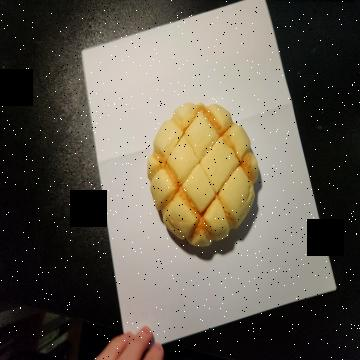melon_bread: (145, 102, 261, 256)
